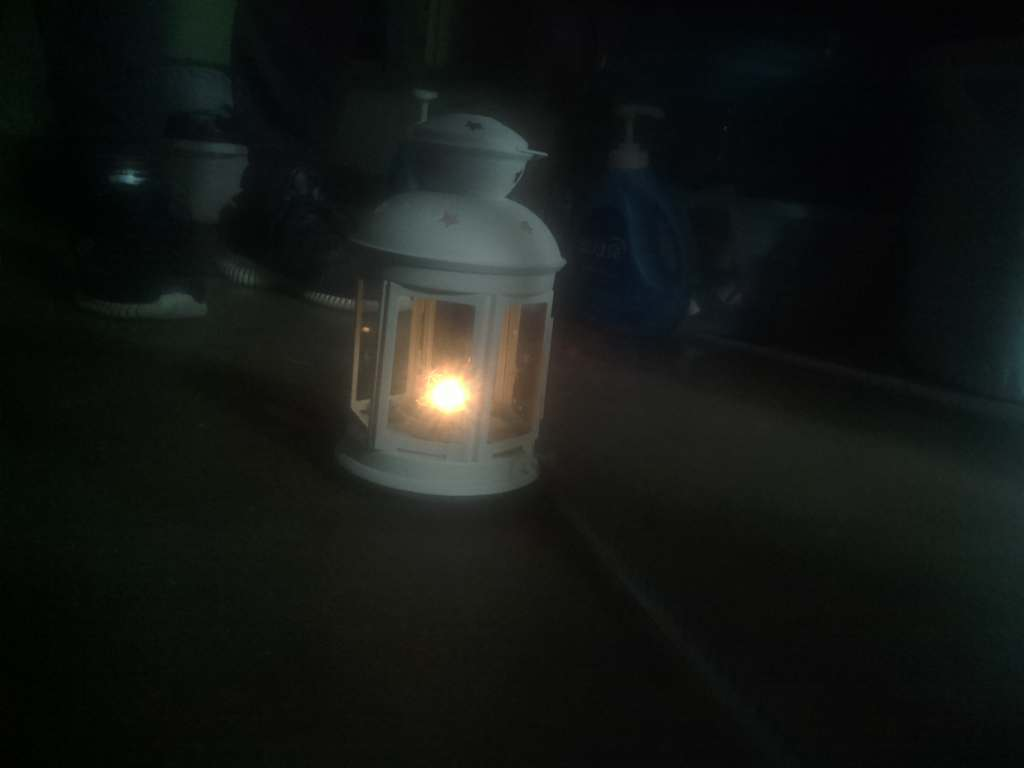fire: (391, 349, 494, 439)
